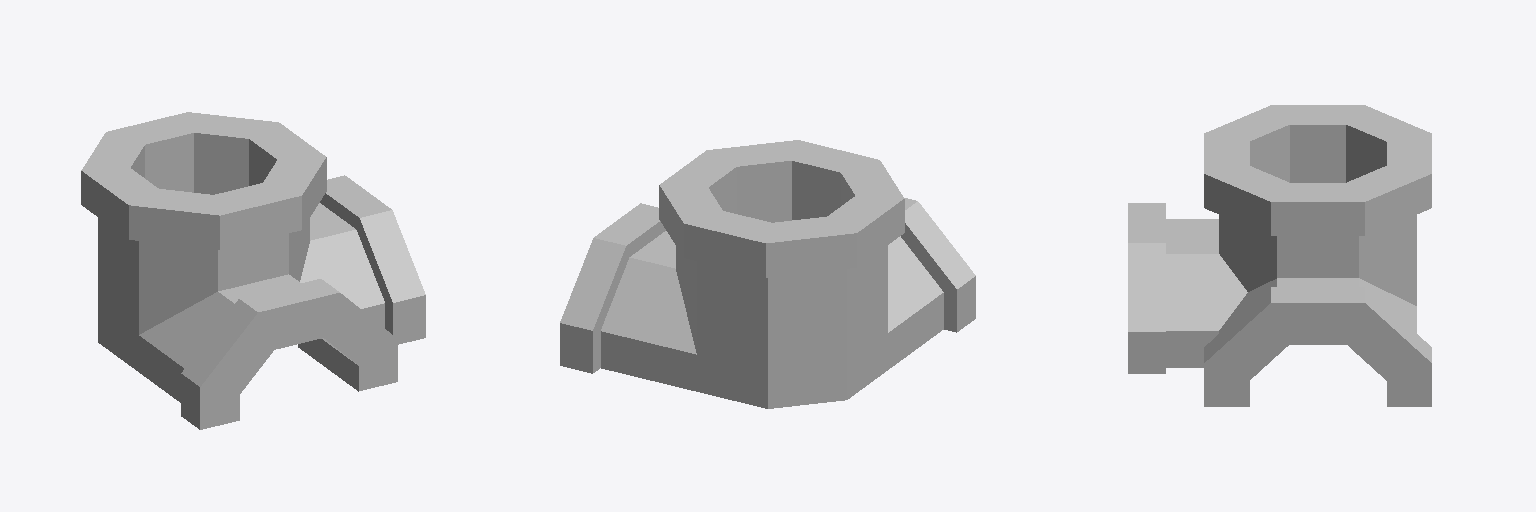
File: Upgraded Drain Pipe - L-shape.obj.obj
3 renders of one model, left to right at view 1: azimuth 30°, elevation 25°; view 2: azimuth 150°, elevation 25°; view 3: azimuth 270°, elevation 25°, orthographic.
Visible parts, largest first — view 1: Upgraded_Drain_Pipe_-_L-shape; view 2: Upgraded_Drain_Pipe_-_L-shape; view 3: Upgraded_Drain_Pipe_-_L-shape.
Part boxes in pixels (bbox=[...]): Upgraded_Drain_Pipe_-_L-shape: bbox=[81, 112, 425, 429]; Upgraded_Drain_Pipe_-_L-shape: bbox=[560, 140, 975, 408]; Upgraded_Drain_Pipe_-_L-shape: bbox=[1128, 105, 1431, 406].
Size of the model in its own units: 0.8 by 0.5 by 0.8.